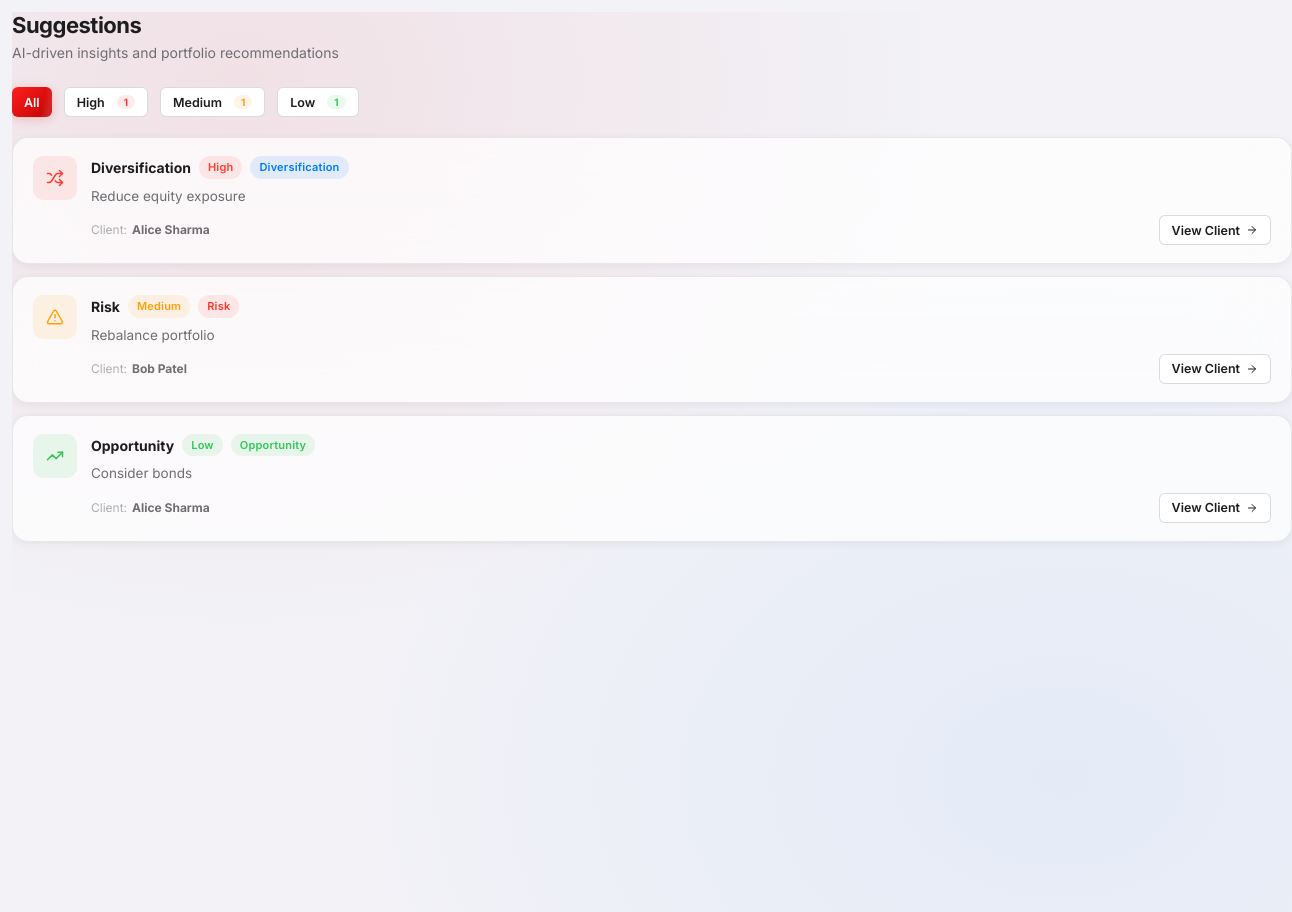
Test: SuggestionsPage — filter › filters by Medium severity
Click the button "Medium 1" at (213, 102), box top-left (160, 87), bottom-right (265, 117)
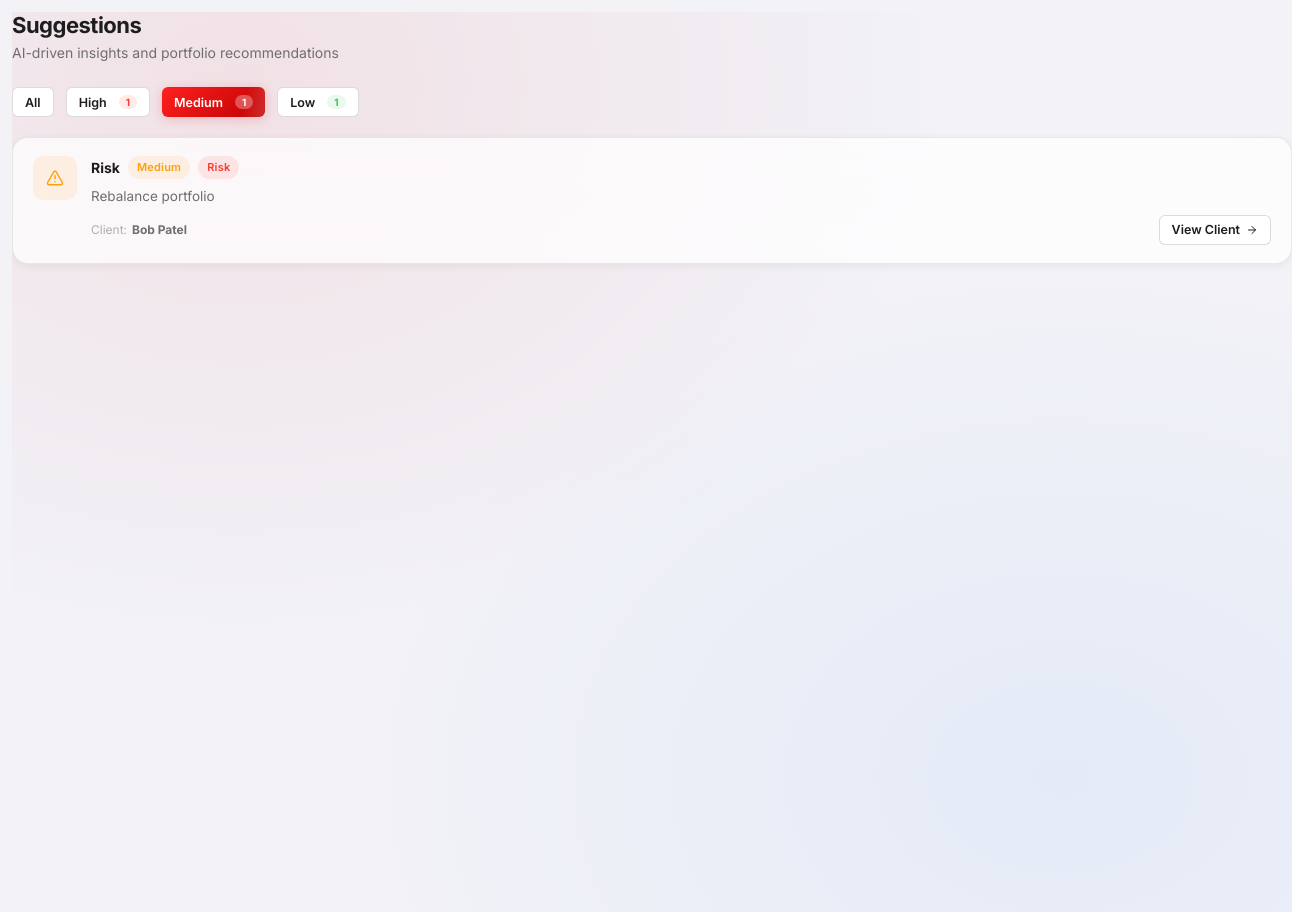
Expected: the text "Rebalance portfolio" is shown, top-left (91, 188), bottom-right (215, 204)
Now the text "Reduce equity exposure" is gone
